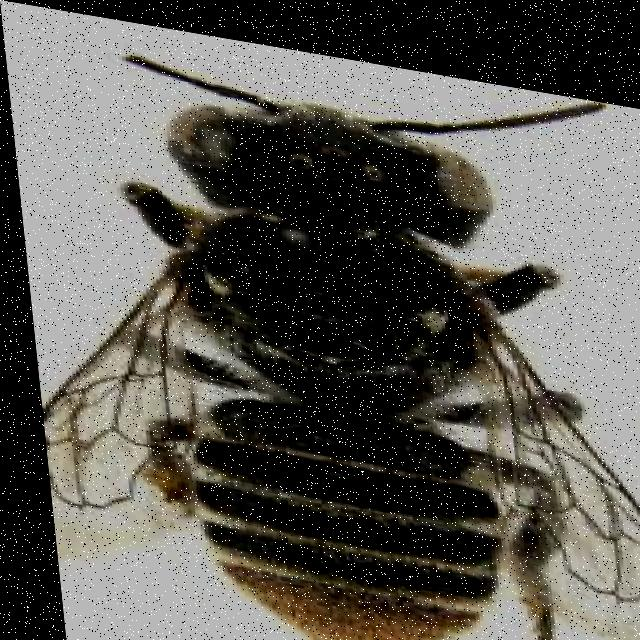Braunsapis: (13, 7, 640, 640)
